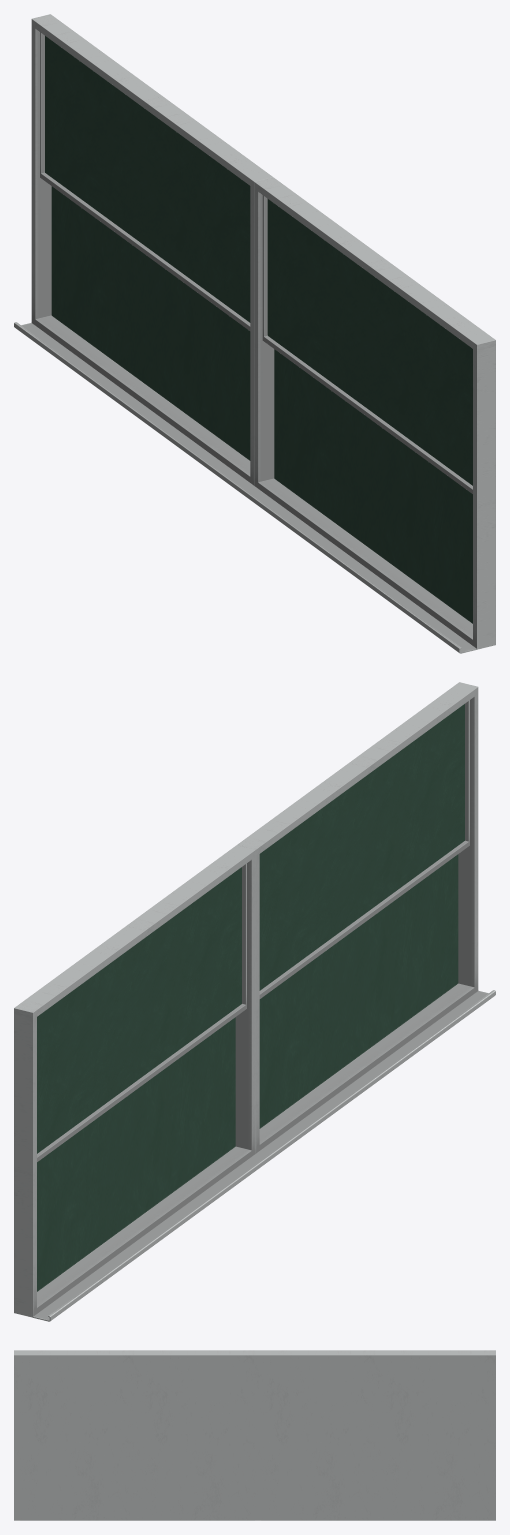
The model's file is SM_Blackboard_Double_01.fbx.
3 views of the same model, one above another, from view 1: azimuth 30°, elevation 25°; view 2: azimuth 150°, elevation 25°; view 3: azimuth 270°, elevation 25° (orthographic). The views are drawn at different scales.
Parts seen in each view (by area): view 1: SM_Blackboard_Double_01_LOD0; view 2: SM_Blackboard_Double_01_LOD0; view 3: SM_Blackboard_Double_01_LOD0.
Boxes of the visible parts, bbox=[...] form: SM_Blackboard_Double_01_LOD0: bbox=[14, 14, 495, 653]; SM_Blackboard_Double_01_LOD0: bbox=[14, 682, 495, 1321]; SM_Blackboard_Double_01_LOD0: bbox=[14, 1350, 495, 1520].
Size of the model in its own units: 21.29 by 450 by 170.
